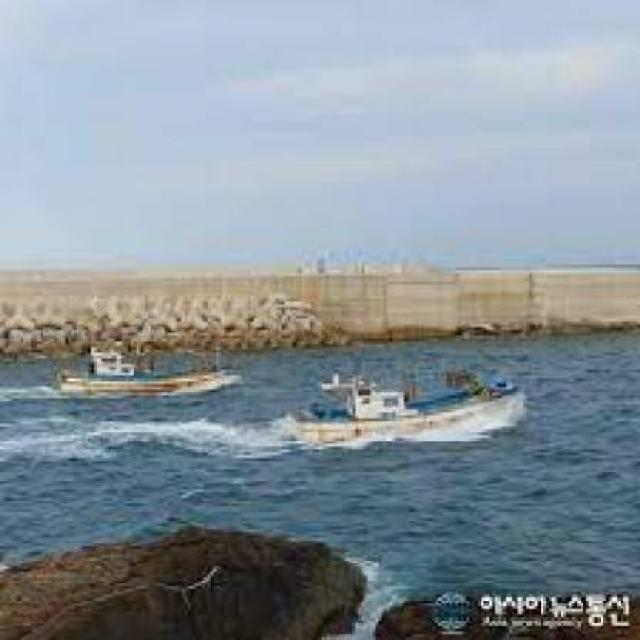fish-b: (274, 365, 542, 462), (35, 334, 249, 405)
